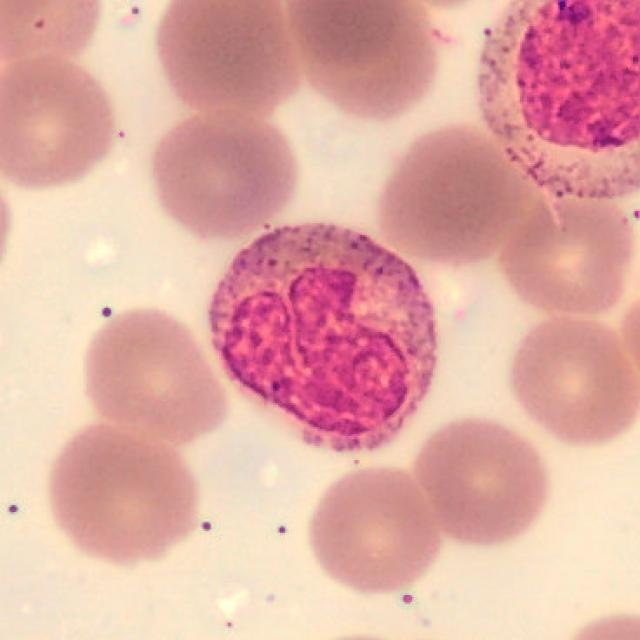Bastonete: (209, 223, 438, 458)
